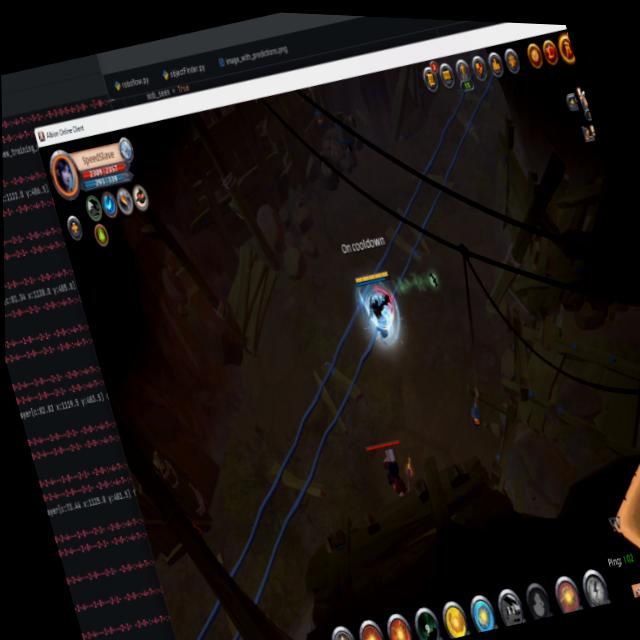ore: (361, 425, 426, 514)
red: (349, 265, 408, 355)
